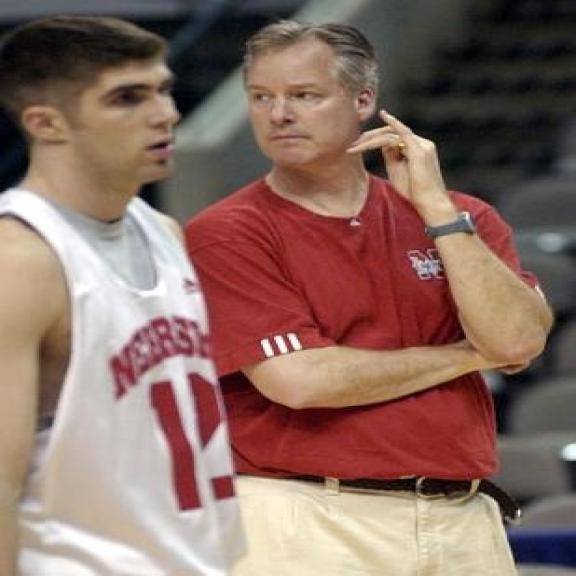face: (27, 60, 190, 180), (248, 47, 382, 164)
